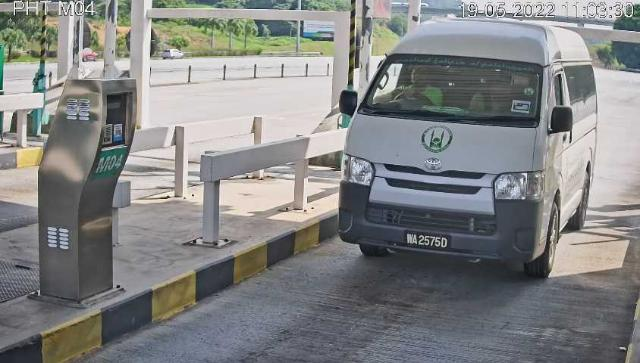License_Plate: (403, 230, 453, 256)
van: (339, 20, 598, 280)
